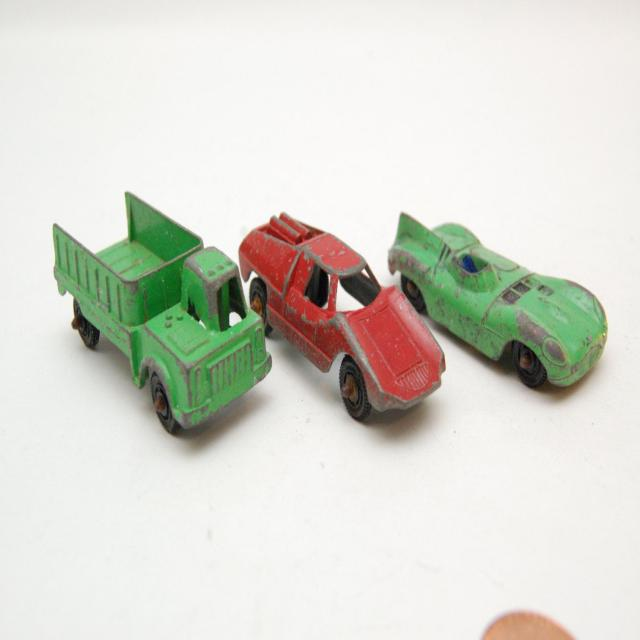Car: (238, 210, 446, 422), (388, 211, 608, 389)
